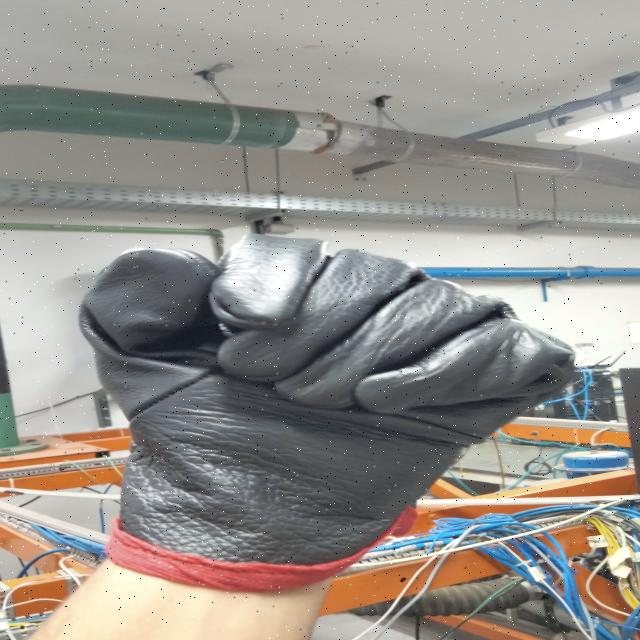Gloves: (60, 230, 551, 586)
